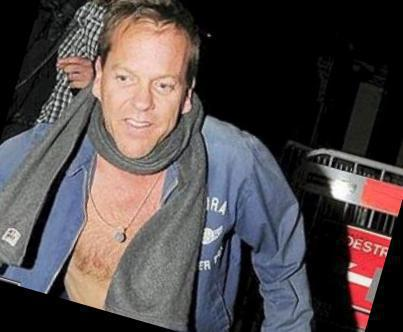Drunk: (108, 25, 182, 156)
